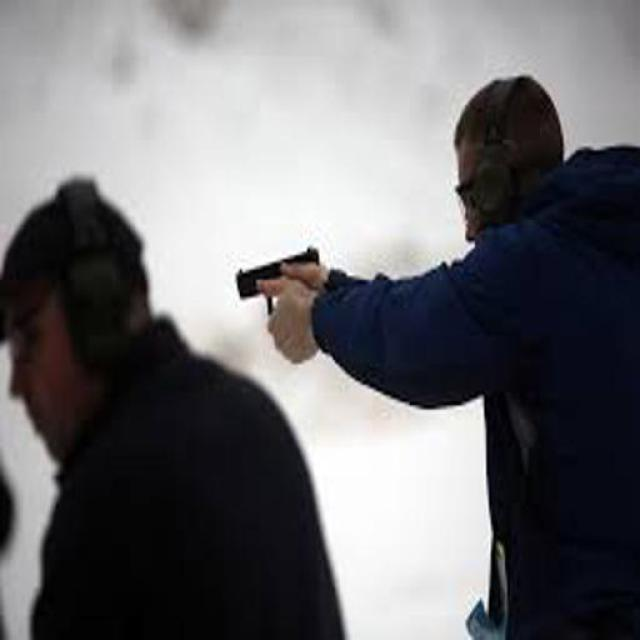pistol: (233, 244, 328, 328)
